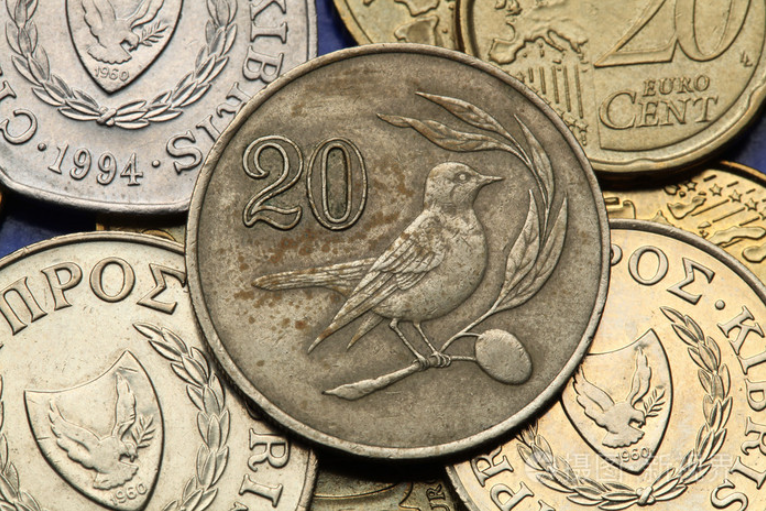coin: (179, 41, 612, 460), (437, 219, 766, 511), (1, 231, 318, 511), (1, 1, 316, 215), (459, 1, 765, 172), (590, 155, 764, 288), (300, 441, 480, 511), (331, 1, 466, 58), (93, 204, 194, 249)
